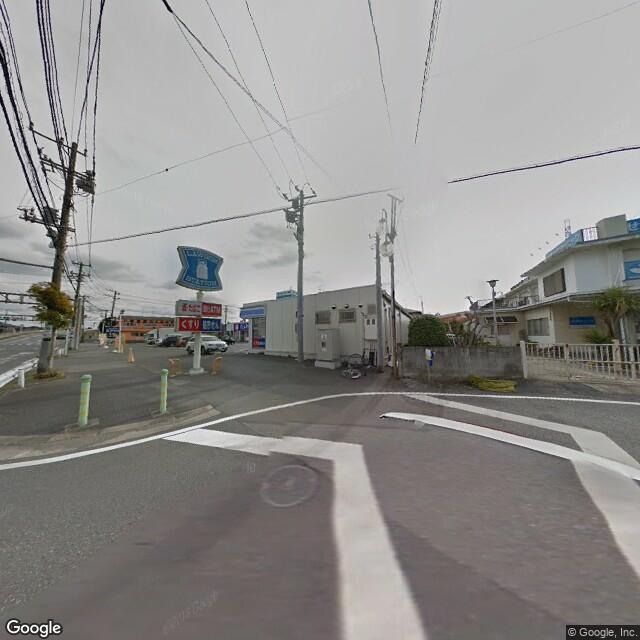lawson: (177, 238, 225, 298), (239, 303, 270, 322)
